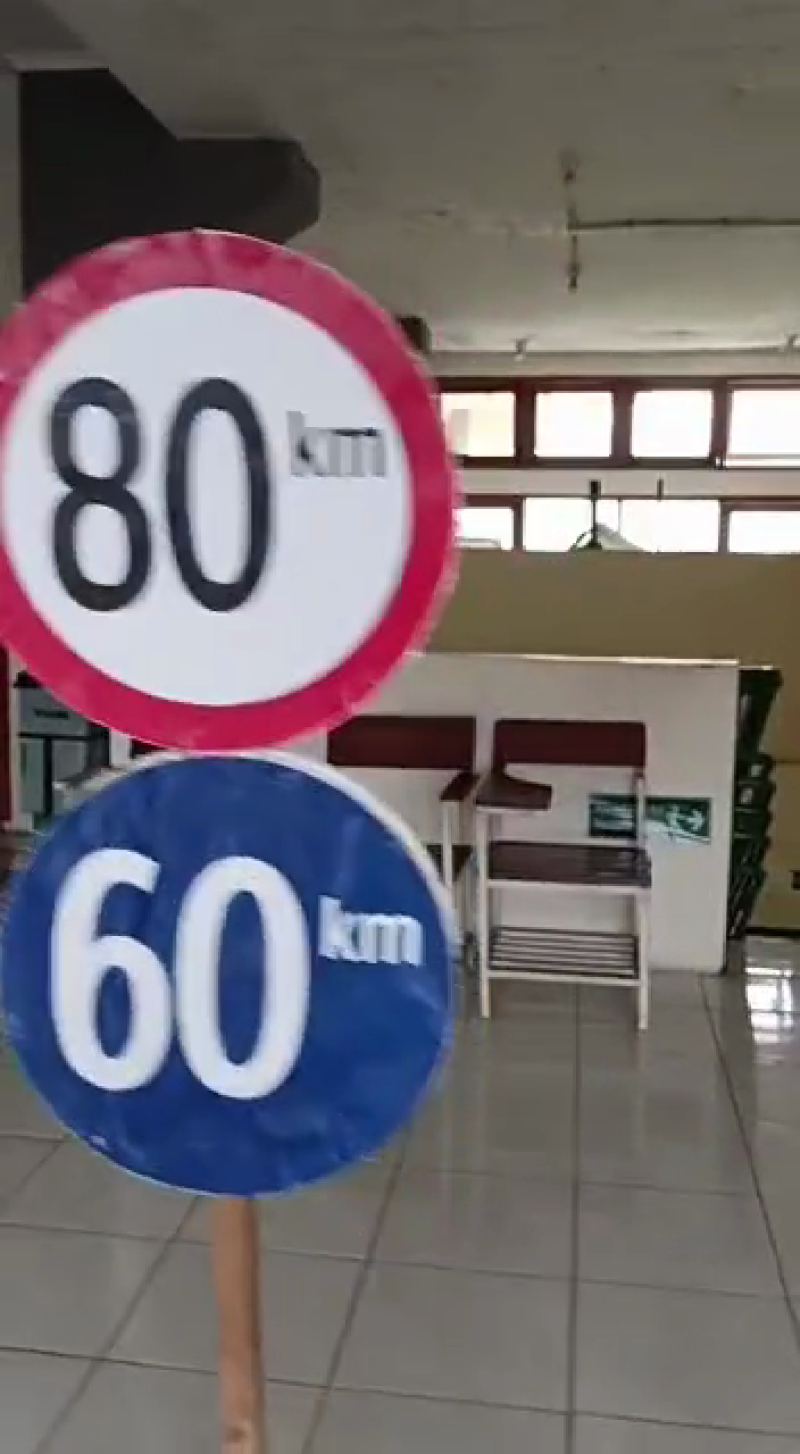batas maksimal 80kmperjam minimal 60kmperjam: (1, 215, 469, 1205)
